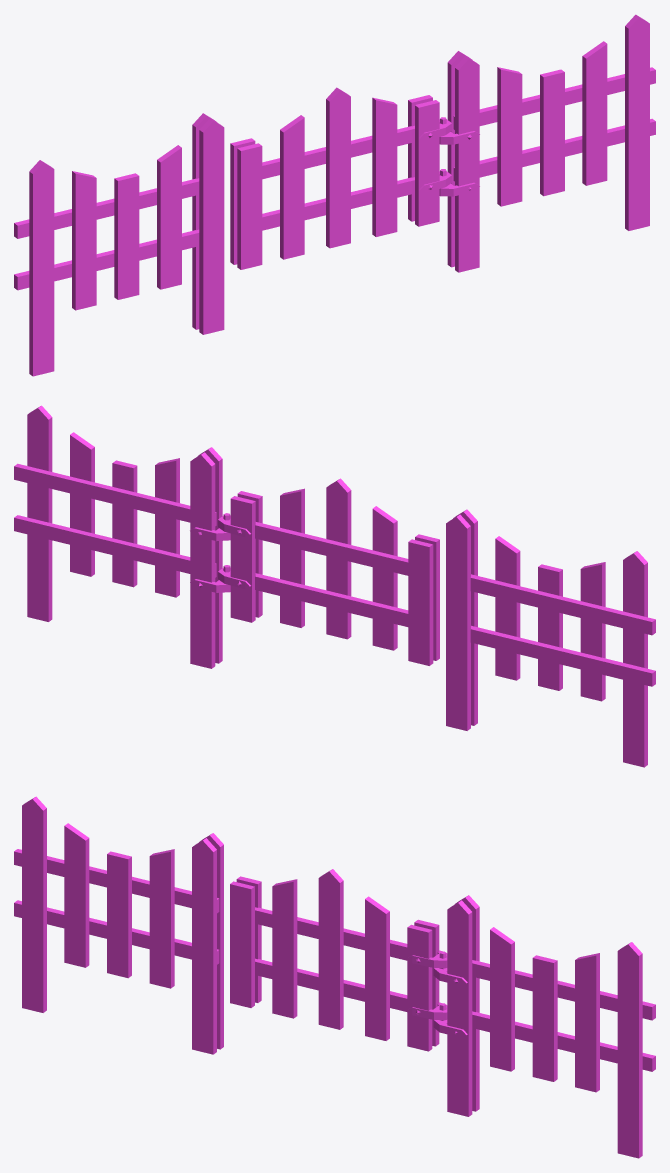
The model's file is SM_Fence_Picket_White_Gate.fbx.
3 renders of one model, top to bottom at view 1: azimuth 30°, elevation 25°; view 2: azimuth 150°, elevation 25°; view 3: azimuth 330°, elevation 25°, orthographic.
Visible parts, largest first — view 1: SM_Fence_Picket_White_Gate_Base, SM_Fence_Picket_White_Gate_Door; view 2: SM_Fence_Picket_White_Gate_Base, SM_Fence_Picket_White_Gate_Door; view 3: SM_Fence_Picket_White_Gate_Base, SM_Fence_Picket_White_Gate_Door.
Boxes of the visible parts, bbox=[...] form: SM_Fence_Picket_White_Gate_Base: bbox=[14, 14, 655, 376]; SM_Fence_Picket_White_Gate_Door: bbox=[230, 87, 451, 269]; SM_Fence_Picket_White_Gate_Base: bbox=[14, 405, 655, 767]; SM_Fence_Picket_White_Gate_Door: bbox=[218, 478, 439, 665]; SM_Fence_Picket_White_Gate_Base: bbox=[14, 796, 655, 1158]; SM_Fence_Picket_White_Gate_Door: bbox=[230, 869, 447, 1051].
Size of the model in its own units: 3 by 0.9499 by 0.1309.
